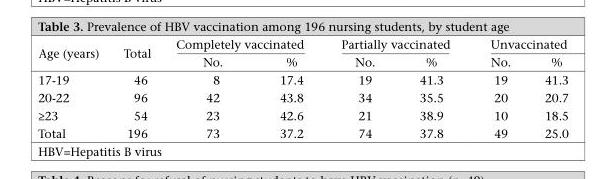table: (37, 36, 567, 139)
table column: (162, 36, 250, 139), (321, 36, 396, 139), (37, 36, 110, 139), (396, 36, 469, 139), (250, 36, 321, 139), (469, 36, 527, 139), (110, 36, 162, 139), (527, 36, 567, 139)
table column header: (37, 36, 567, 70)
table row: (37, 52, 567, 70), (37, 70, 567, 88), (37, 88, 567, 106), (37, 106, 567, 123), (37, 36, 567, 52), (37, 123, 567, 139)
table spanning cell: (162, 36, 321, 52), (37, 36, 110, 70), (321, 36, 469, 52), (110, 36, 162, 70), (469, 36, 567, 52)
